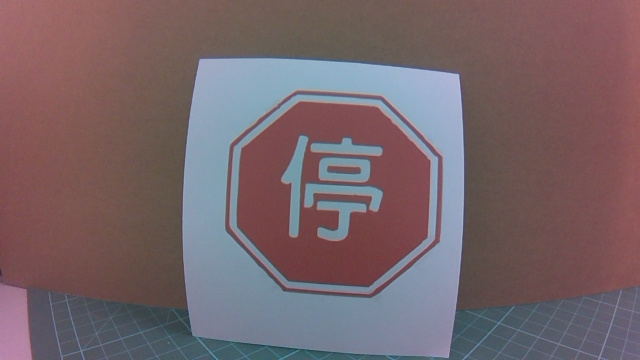stop: (239, 94, 425, 300)
